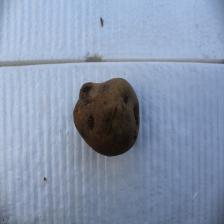Diseased-fungal potato: (70, 77, 140, 158)
